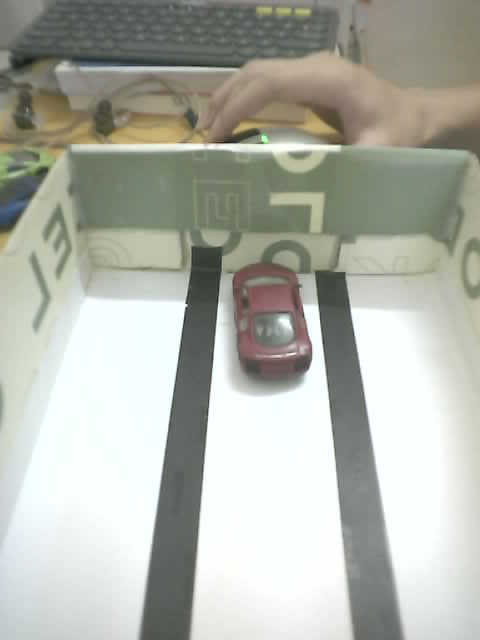vehicle: (220, 262, 313, 395)
